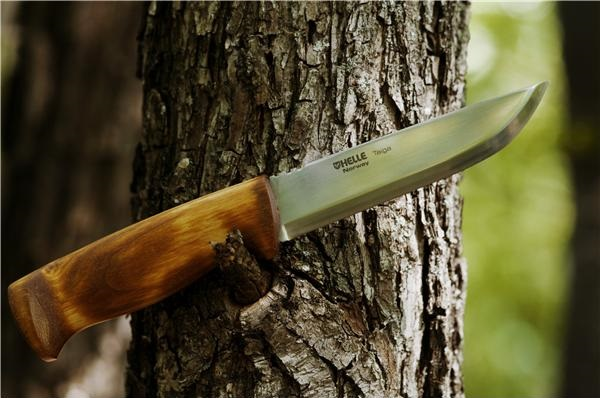knife: (246, 79, 555, 255)
